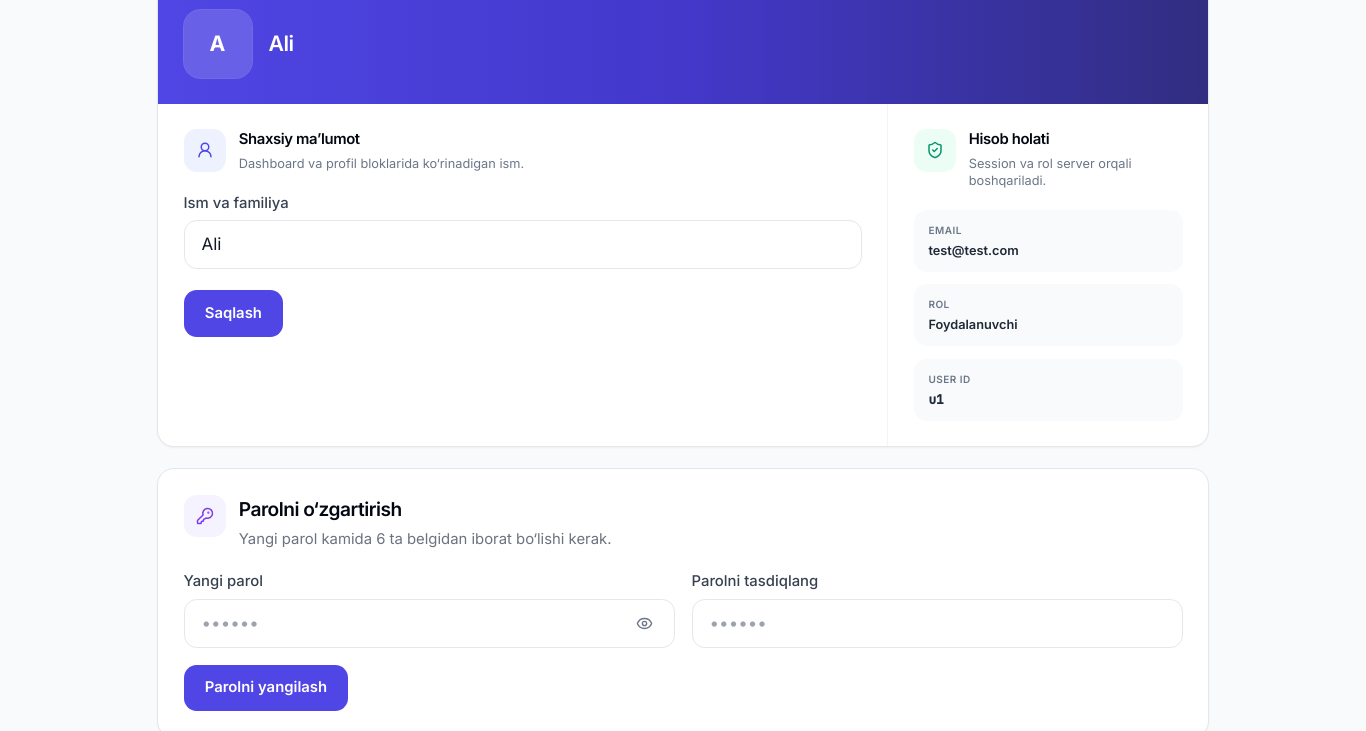
Test: Profile sahifasi › qisqa yangi parol validatsiya xatosi beradi
(page scrolled)
Step 1. Type "123" into the password field labelled "Yangi parol" → (429, 623), box [184,599,674,648]
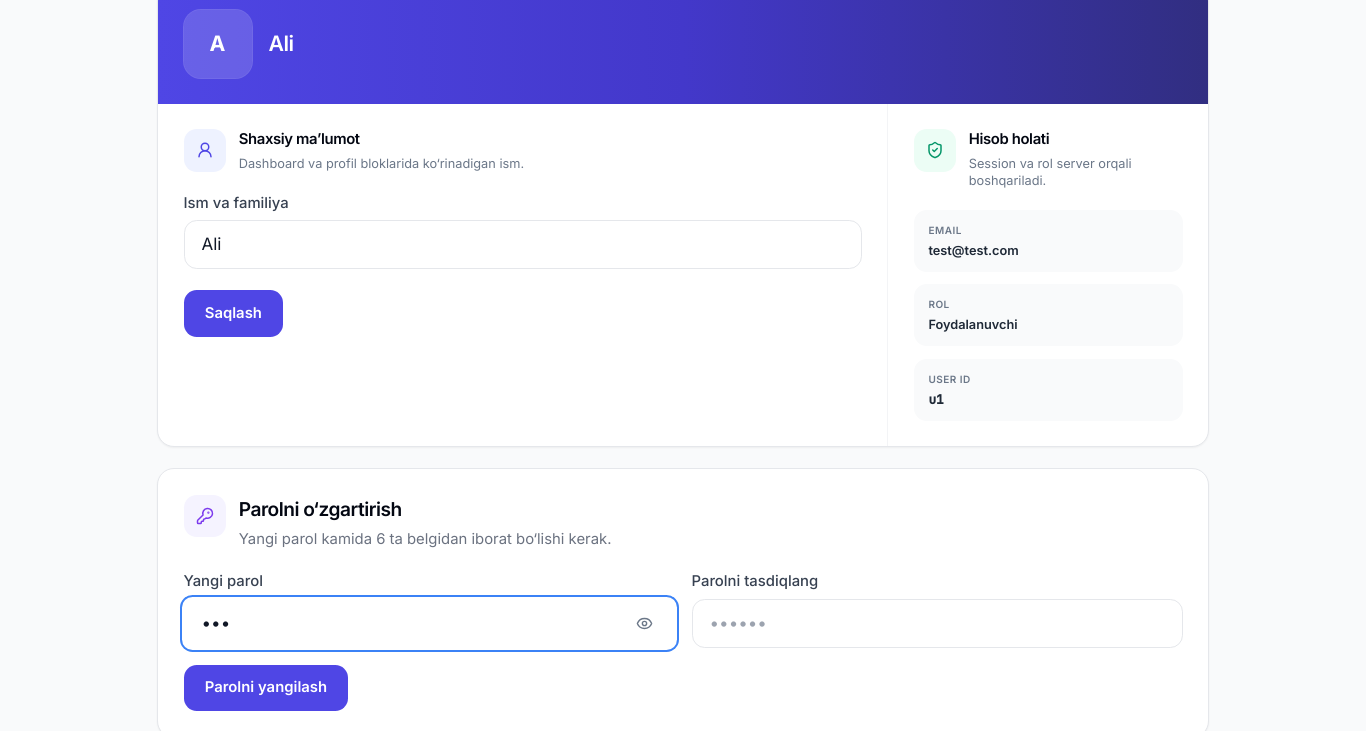
Step 2. Type "123" into the password field labelled "Parolni tasdiqlang" → (937, 623), box [692,599,1182,648]
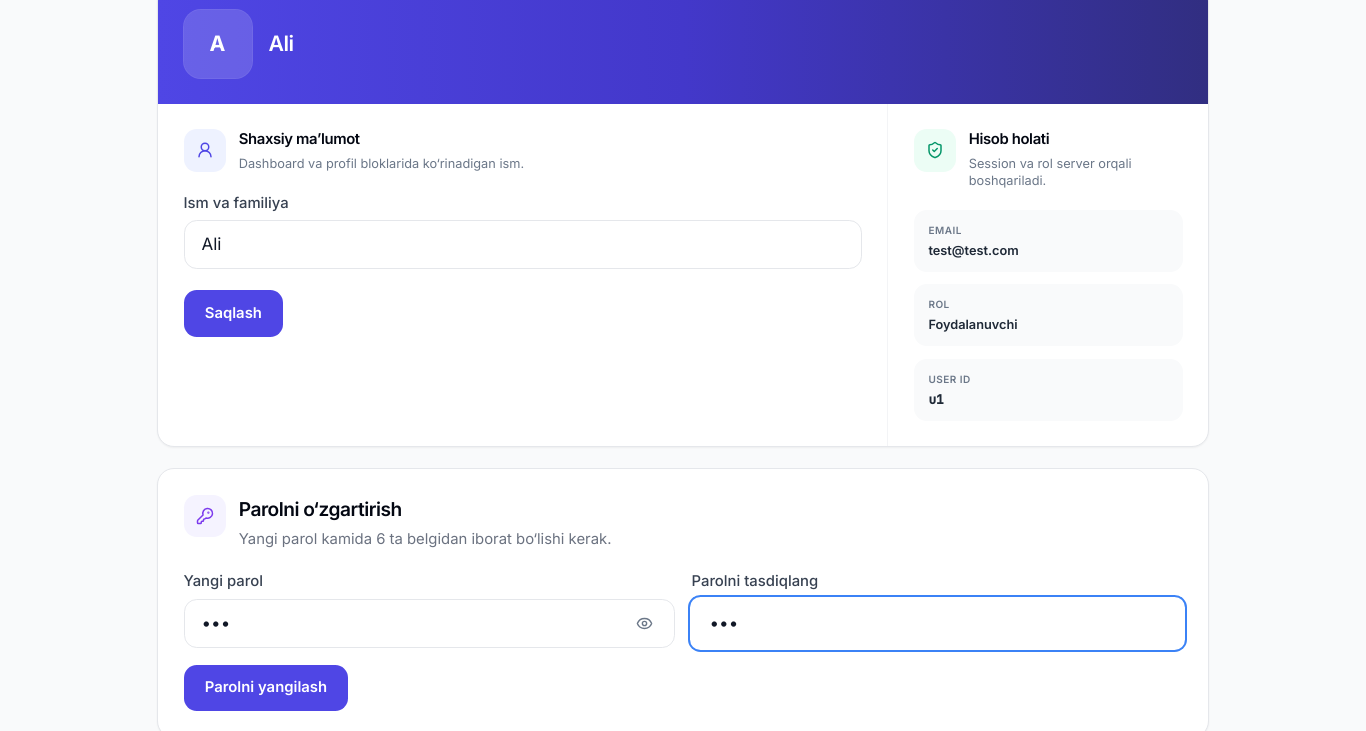
Step 3. Click the button "Parolni yangilash" → (266, 688), box [184,665,348,711]
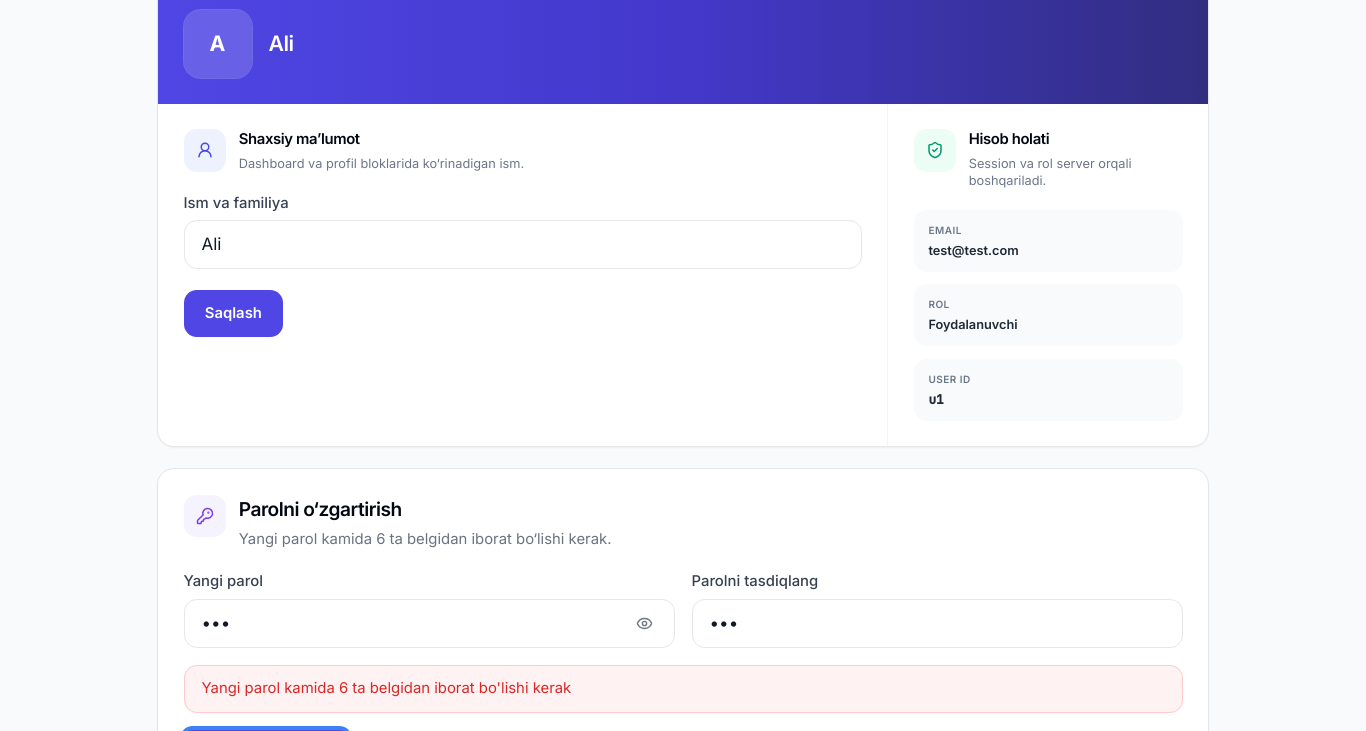
Check: the text "Yangi parol kamida 6 ta belgidan iborat bo'lishi kerak" is shown, box [184,665,1182,713]
